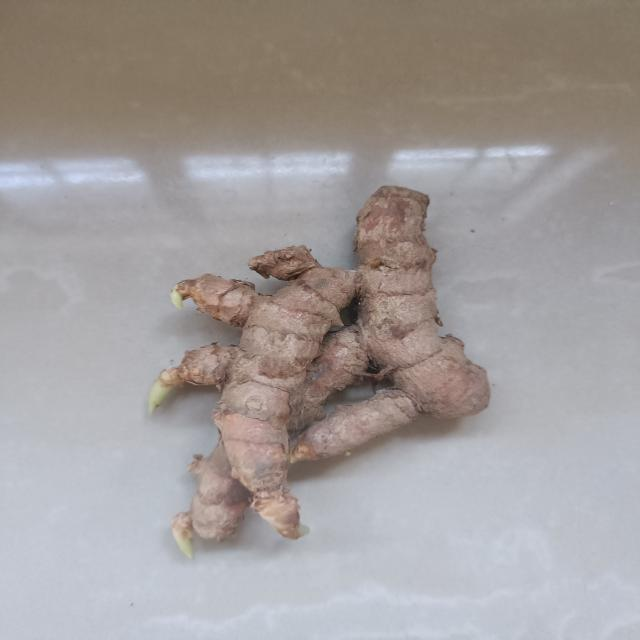ginger: (139, 180, 497, 564)
